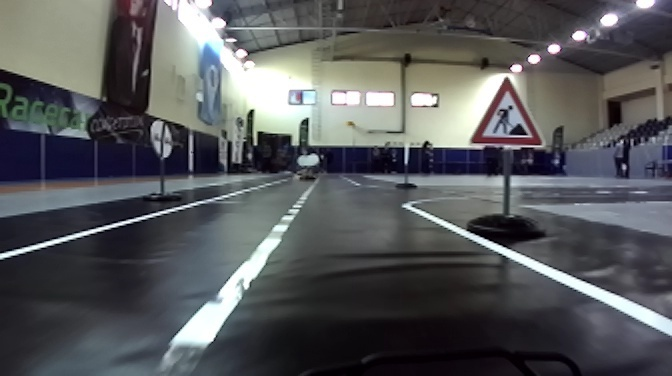yol_yapimi: (458, 78, 544, 145)
